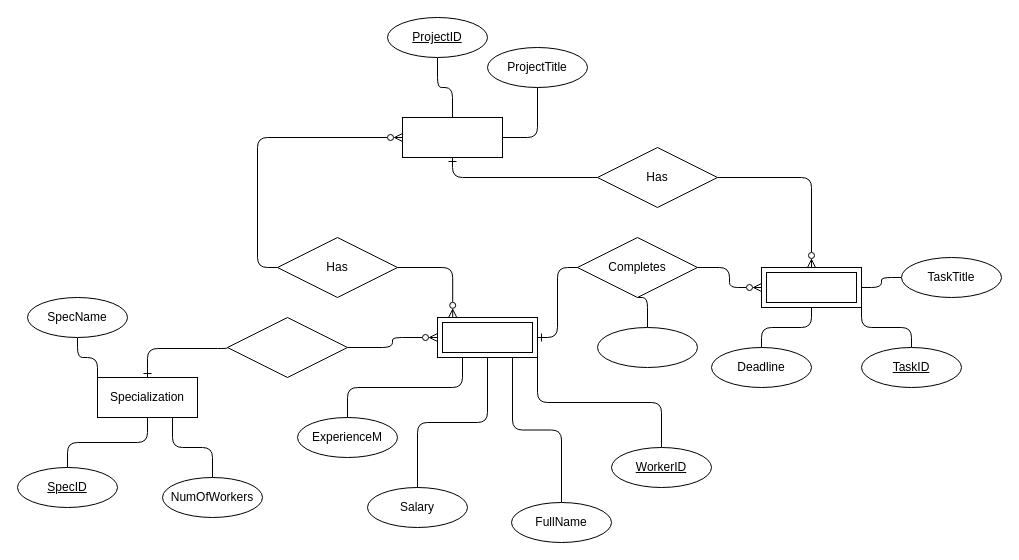
This 1019x560 diagram has some shape labels left out. The shapes that lost their labels are listed below. From the top down, each one's centre as x and y in pixels, then its label:
(452,137): Project
(811,287): Task
(287,347): Contains
(487,337): Worker
(647,347): Status
